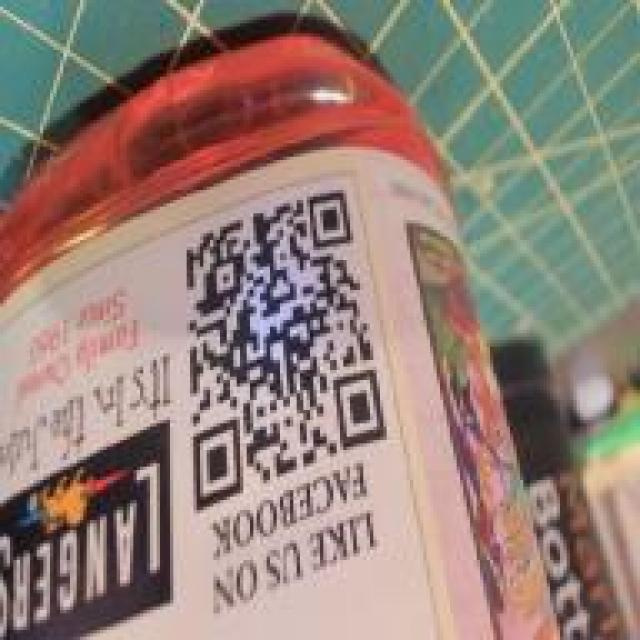qr_code: (186, 189, 389, 512)
